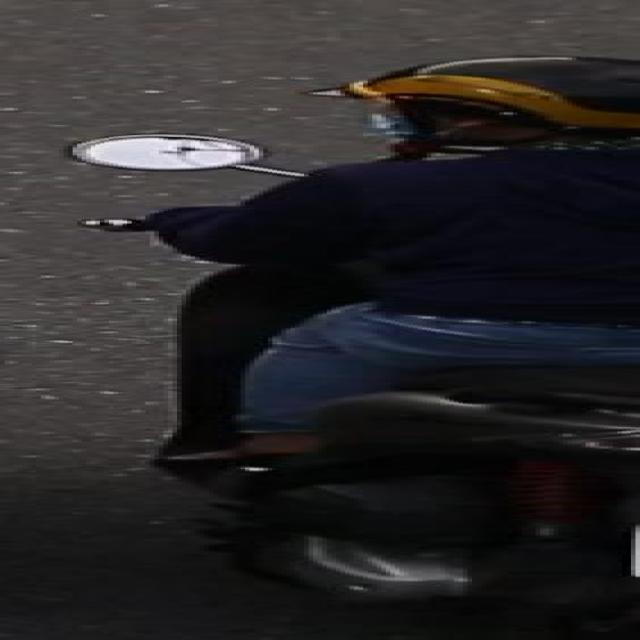helmet: (372, 51, 640, 170)
